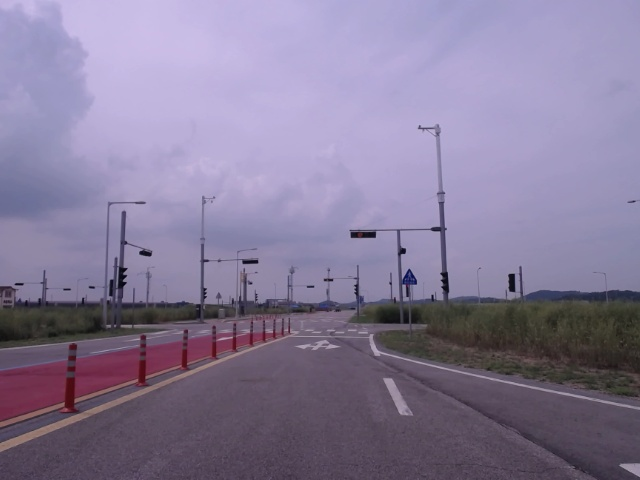orange_4: (350, 230, 375, 240), (323, 278, 335, 282)
